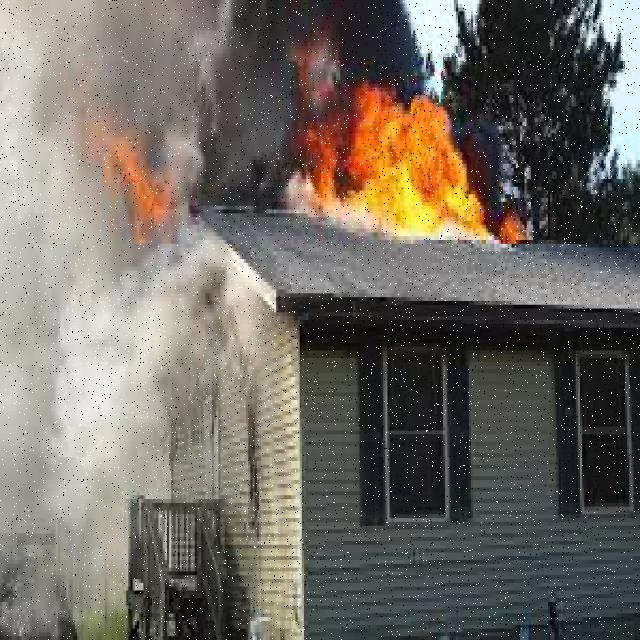fire: (310, 80, 526, 246), (106, 152, 174, 238)
smoke: (25, 237, 201, 493), (172, 8, 308, 166)
